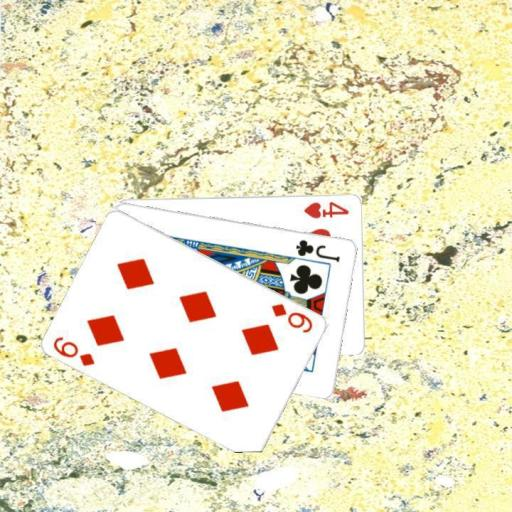card-corner: (268, 300, 315, 335), (50, 334, 96, 368), (293, 236, 342, 263), (300, 198, 350, 220)
